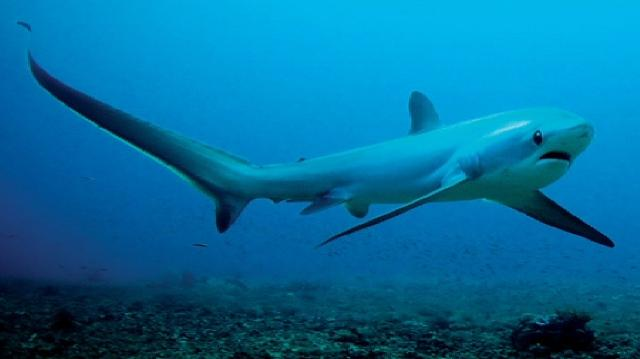Mulut: (528, 143, 584, 174)
Sirip Anal: (268, 150, 310, 214)
Sirip Dada: (308, 174, 622, 264)
Sirip Ekor: (7, 13, 257, 251)
Sirip Perut: (298, 188, 374, 230)
Sirip Punggung: (396, 80, 452, 142)
